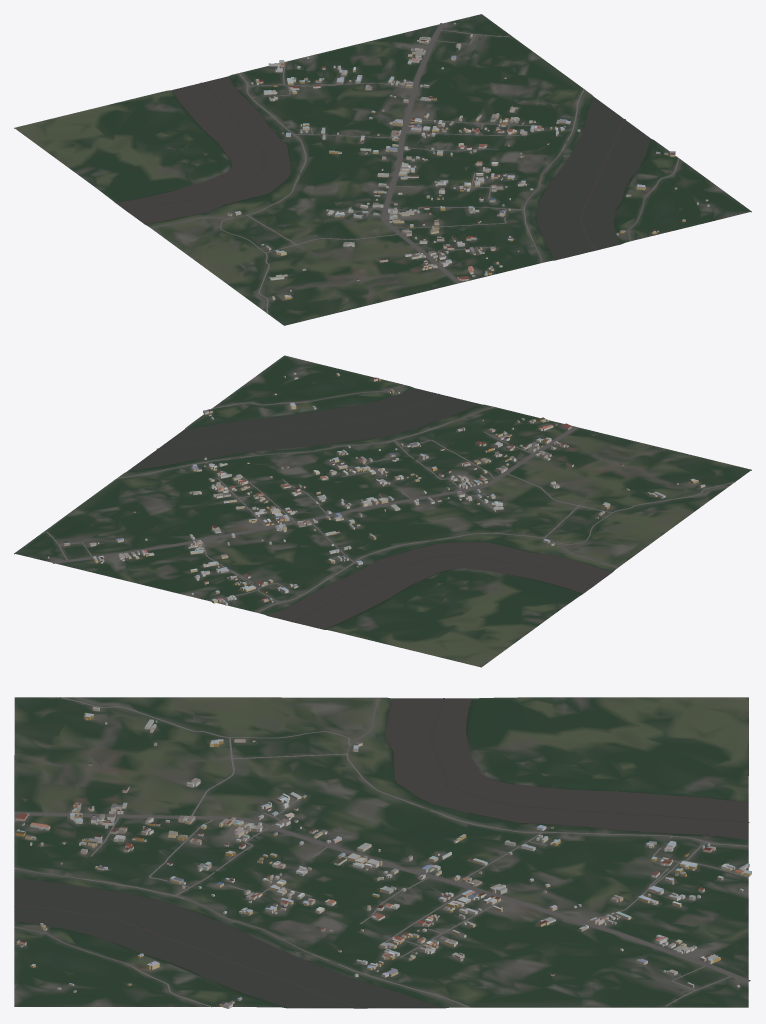
The picture shows the model from 3 angles, top to bottom: view 1: azimuth 30°, elevation 25°; view 2: azimuth 150°, elevation 25°; view 3: azimuth 270°, elevation 25°; orthographic projection. The views are drawn at different scales.
Parts seen in each view (by area): view 1: ground, water, buildings, roads; view 2: ground, water, buildings, roads; view 3: ground, water, buildings, roads.
Boxes of the visible parts, x1,y1,x2,y2 form: ground: (14, 14, 751, 325); water: (116, 76, 650, 259); buildings: (227, 22, 709, 300); roads: (150, 23, 679, 313); ground: (14, 355, 751, 667); water: (128, 388, 611, 629); buildings: (48, 372, 705, 605); roads: (46, 385, 735, 612); ground: (14, 697, 748, 1008); water: (14, 698, 749, 1008); buildings: (15, 706, 751, 1008); roads: (14, 697, 750, 1007).
Size of the model in its own units: 1408 by 16.12 by 1407.
